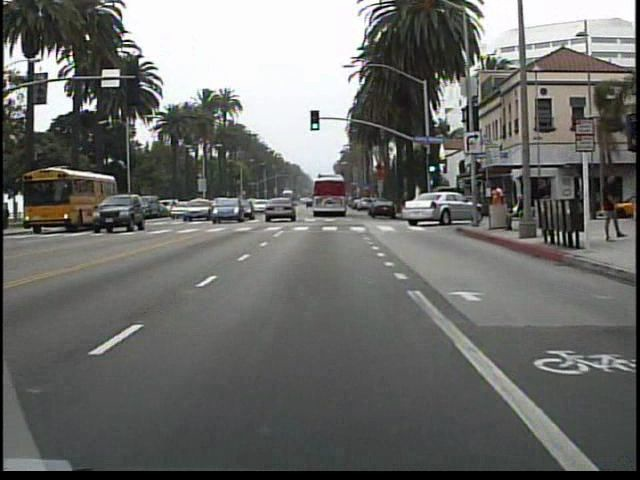person: (595, 169, 622, 245), (534, 177, 554, 230), (506, 187, 524, 235), (487, 180, 505, 228)
